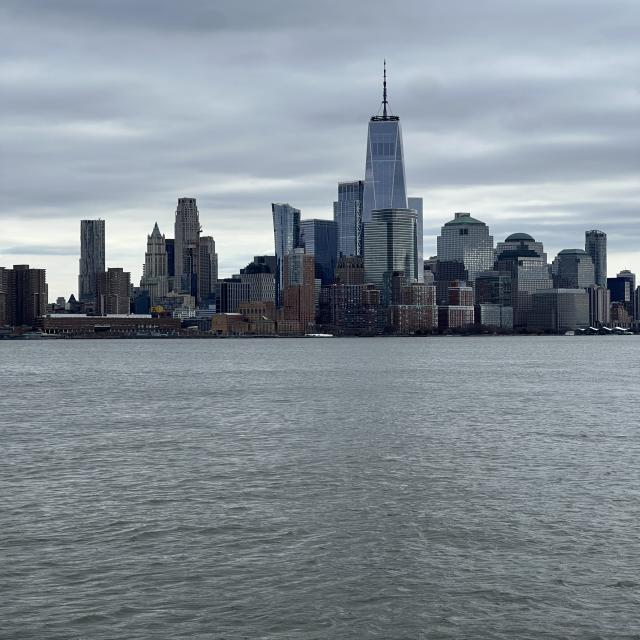WTC: (362, 59, 409, 210)
